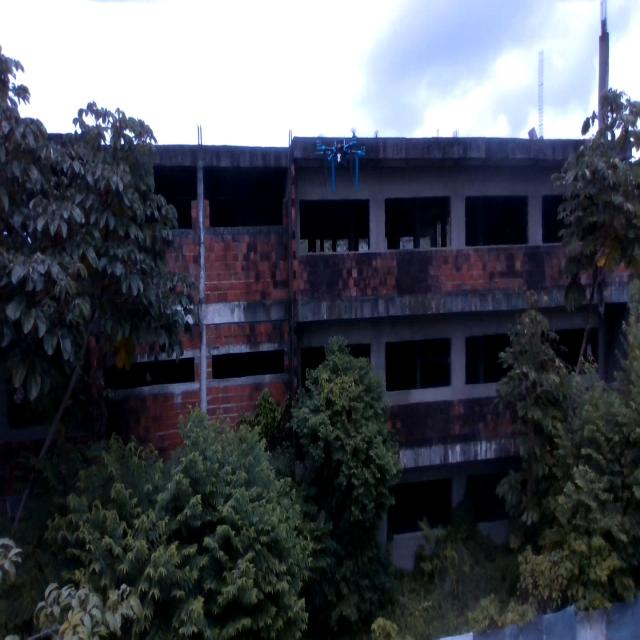-uav-: (310, 121, 366, 203)
